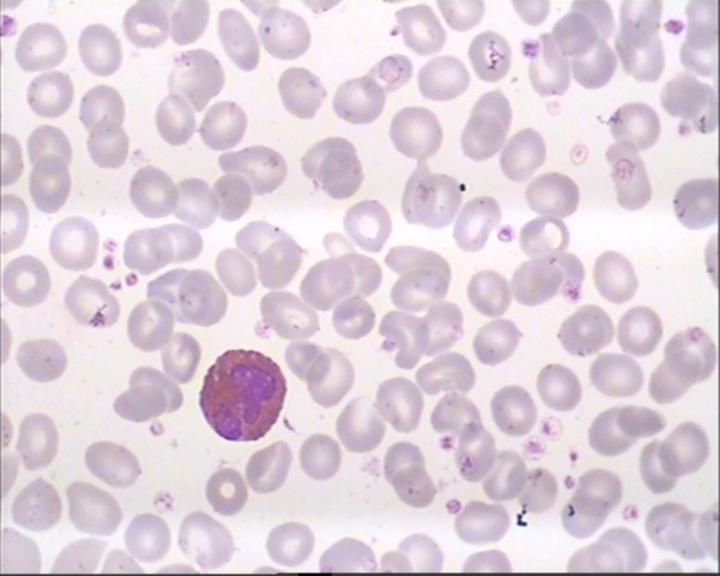eosi: (193, 348, 289, 446)
